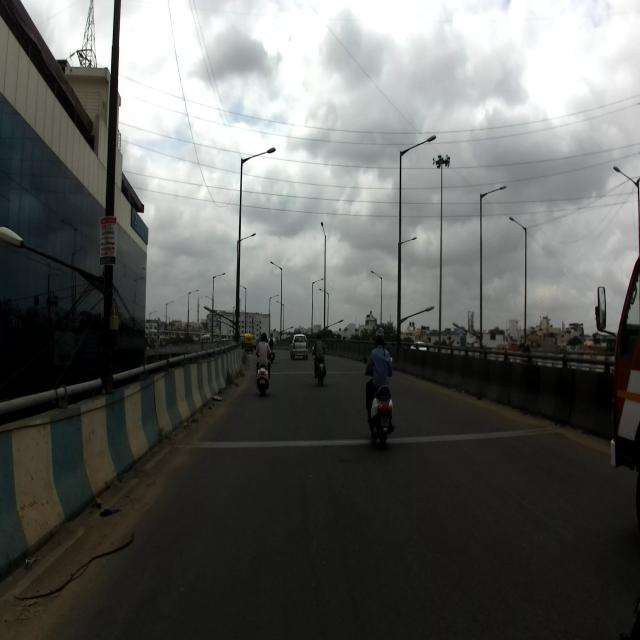car: (290, 331, 308, 361)
scooter: (361, 355, 395, 448), (256, 359, 270, 394)
